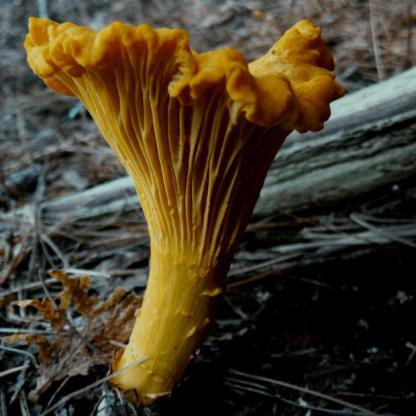chanterelle: (24, 17, 348, 402)
